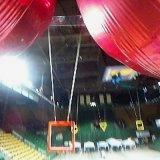Orange_Square_GShape: (48, 122, 76, 152)
Yellow_Square_GShape: (136, 120, 144, 130)
Yellow_Triangle_Gshape: (99, 122, 108, 131)
